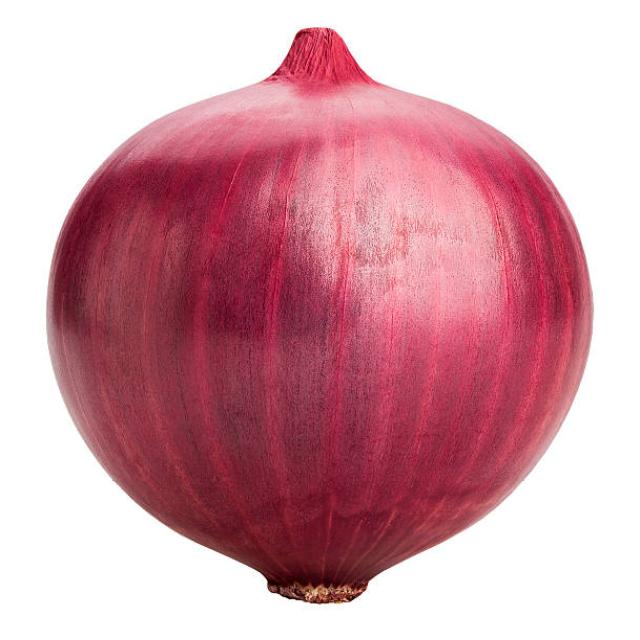onion: (40, 39, 596, 614)
